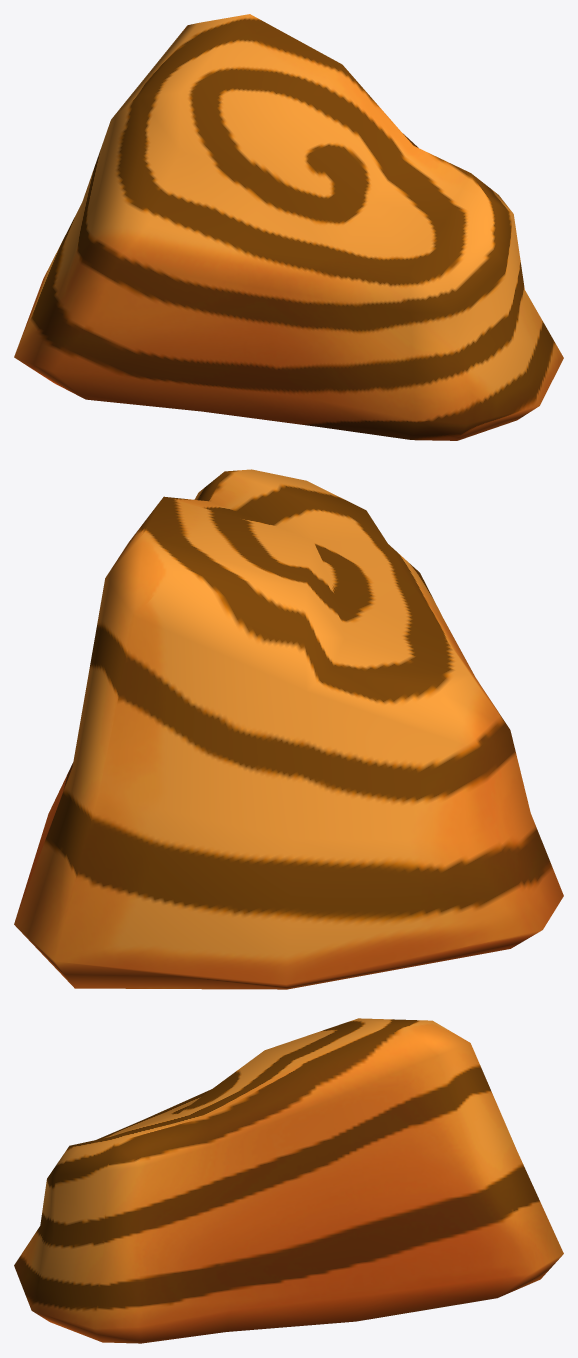
File: rock_F.fbx
The picture shows the model from 3 angles, top to bottom: view 1: azimuth 30°, elevation 25°; view 2: azimuth 150°, elevation 25°; view 3: azimuth 270°, elevation 25°; orthographic projection. The views are drawn at different scales.
Visible parts, largest first — view 1: polySurface184; view 2: polySurface184; view 3: polySurface184.
Part boxes in pixels (x1,y1,x2,y2): polySurface184: (14, 14, 563, 440); polySurface184: (14, 469, 563, 989); polySurface184: (14, 1018, 563, 1343).
Bounding box in the file's own units: 95.73 × 62.52 × 119.
